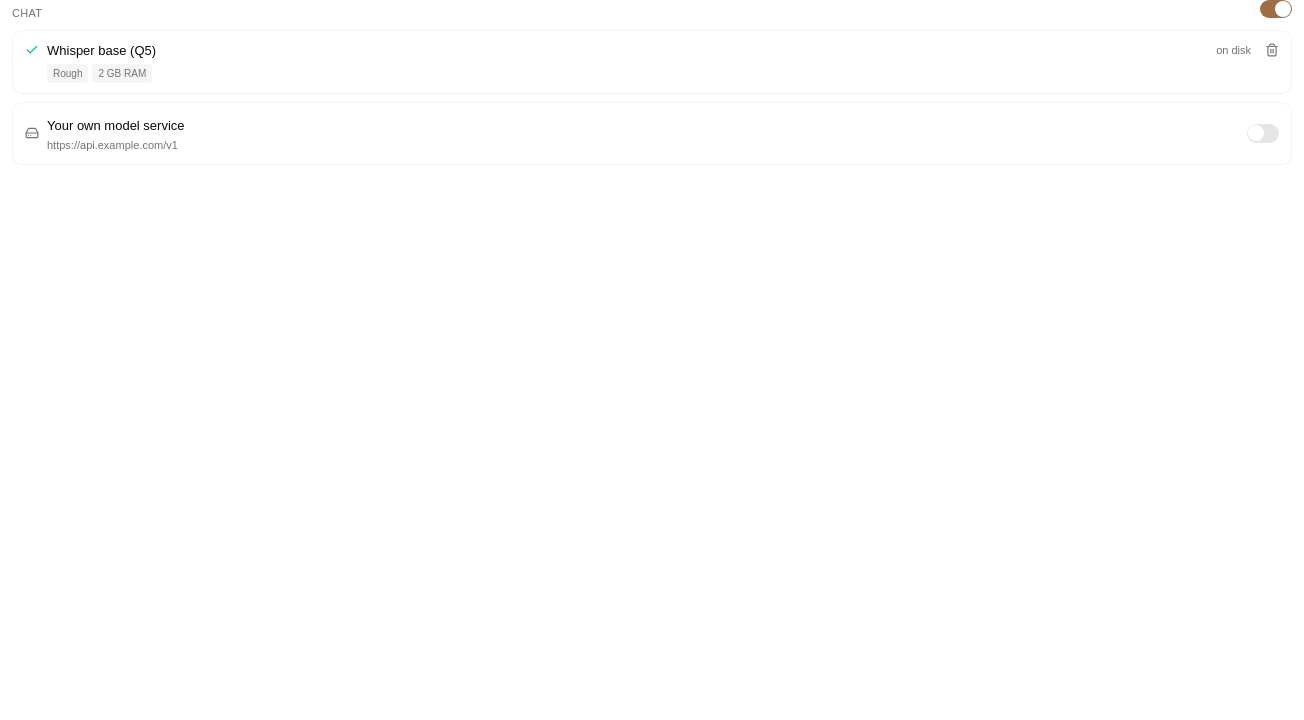
Test: ModelsPanel endpoints › warns that text leaves the machine, and not when it doesn't
The width and height of the screenshot is (1304, 720).
Click the text "Your own model service" at [116, 126], box x1=47 y1=118 x2=184 y2=133
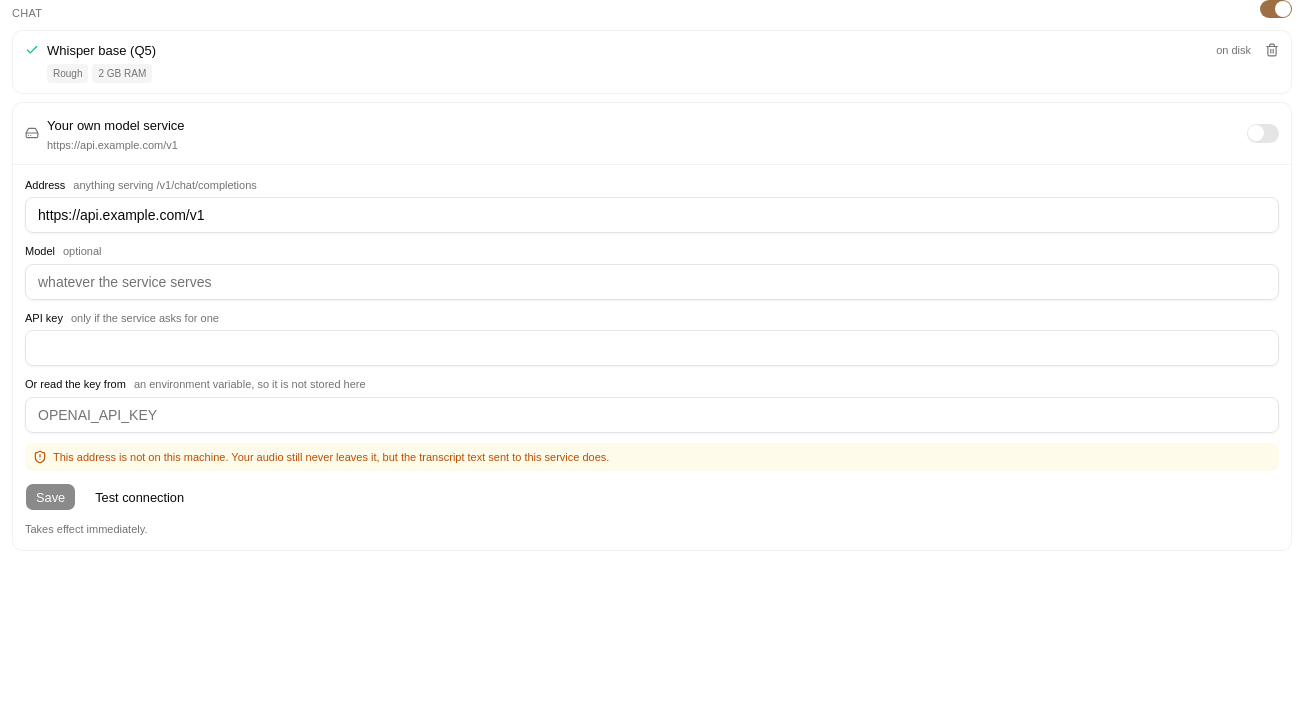
Expected: the text "transcript text sent to this service" is shown, x1=53 y1=451 x2=609 y2=463
